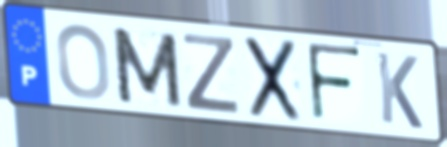F: (304, 40, 365, 126)
K: (373, 48, 425, 132)
M: (108, 24, 186, 110)
O: (53, 21, 113, 102)
X: (243, 34, 303, 124)
Z: (181, 30, 241, 117)
